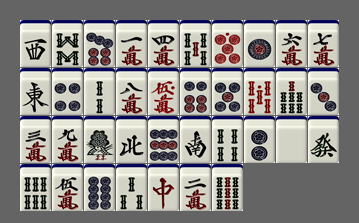0m: (148, 68, 179, 115)
0p: (212, 20, 243, 67)
0s: (244, 68, 275, 115)
1m: (116, 20, 147, 67)
1p: (244, 20, 275, 67)
1s: (84, 116, 115, 163)
1z: (20, 68, 51, 115)
2m: (180, 164, 211, 211)
2p: (244, 116, 275, 163)
2s: (84, 68, 115, 115)
2z: (180, 116, 211, 163)
3m: (20, 116, 51, 163)
3p: (308, 68, 339, 115)
3s: (116, 164, 147, 211)
3z: (20, 20, 51, 67)
4m: (148, 20, 179, 67)
4p: (52, 68, 83, 115)
4s: (212, 116, 243, 163)
4z: (116, 116, 147, 163)
5m: (52, 164, 83, 211)
5p: (212, 68, 243, 115)
5s: (180, 20, 211, 67)
5z: (276, 116, 307, 163)
6m: (276, 20, 307, 67)
6p: (180, 68, 211, 115)
6s: (20, 164, 51, 211)
6z: (308, 116, 339, 163)
7m: (308, 20, 339, 67)
7p: (84, 20, 115, 67)
7s: (276, 68, 307, 115)
7z: (148, 164, 179, 211)
8m: (116, 68, 147, 115)
8p: (84, 164, 115, 211)
8s: (52, 20, 83, 67)
9m: (52, 116, 83, 163)
9p: (148, 116, 179, 163)
9s: (212, 164, 243, 211)
